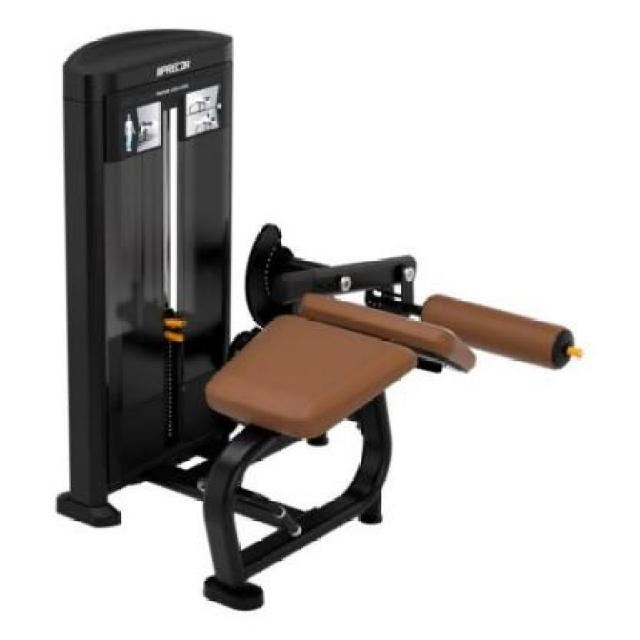reg curl machine: (52, 25, 586, 612)
